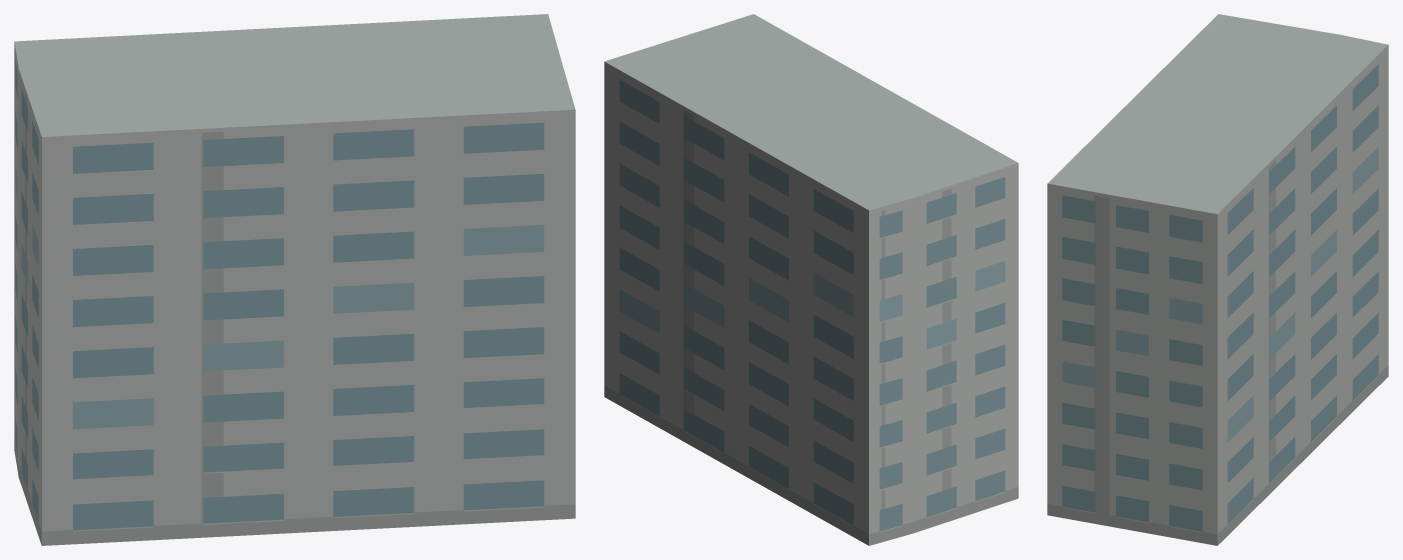
File: residential-ce2662b2-a926-4d6c-bb09-a82e7f80618b.glb
3 renders of one model, left to right at view 1: azimuth 30°, elevation 25°; view 2: azimuth 150°, elevation 25°; view 3: azimuth 270°, elevation 25°, orthographic. The views are drawn at different scales.
Visible parts, largest first — view 1: residential-ce2662b2-a926-4d6c-bb09-a82e7f80618b.tmp; view 2: residential-ce2662b2-a926-4d6c-bb09-a82e7f80618b.tmp; view 3: residential-ce2662b2-a926-4d6c-bb09-a82e7f80618b.tmp.
Boxes of the visible parts, x1,y1,x2,y2 form: residential-ce2662b2-a926-4d6c-bb09-a82e7f80618b.tmp: (14, 14, 575, 545); residential-ce2662b2-a926-4d6c-bb09-a82e7f80618b.tmp: (604, 14, 1018, 545); residential-ce2662b2-a926-4d6c-bb09-a82e7f80618b.tmp: (1047, 14, 1388, 545).
Bounding box in the file's own units: 31.6 × 24.4 × 22.75.
